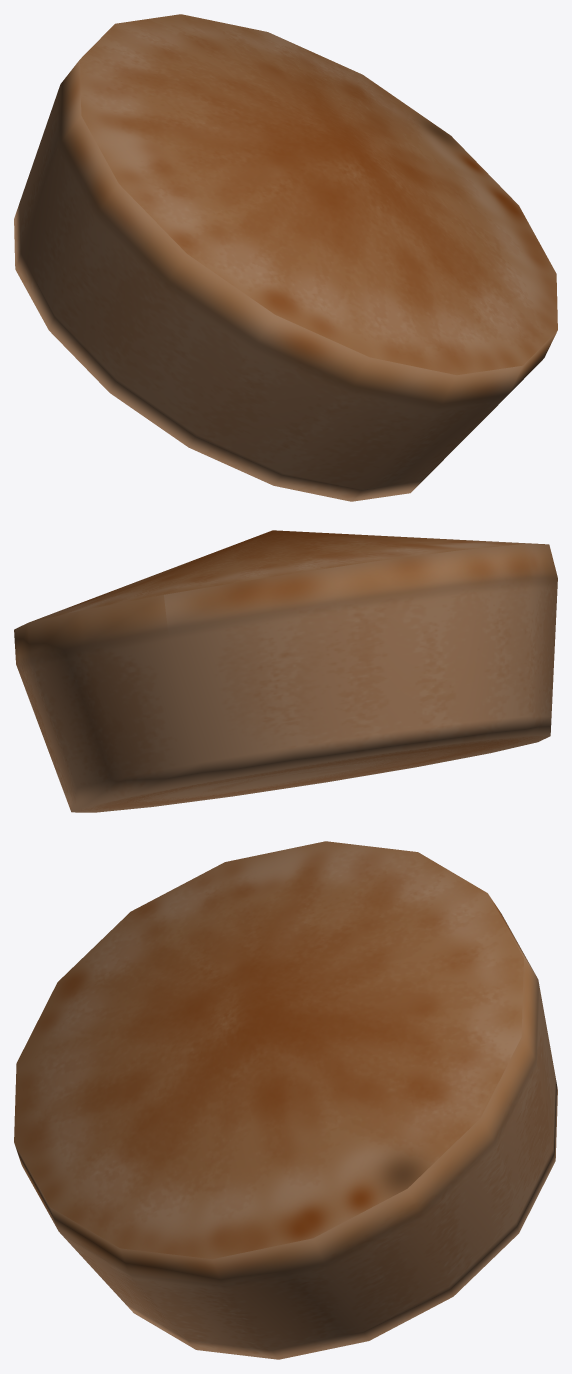
Rendered from PU_MeatPie_01.fbx.
3 views of the same model, one above another, from view 1: azimuth 30°, elevation 25°; view 2: azimuth 150°, elevation 25°; view 3: azimuth 270°, elevation 25° (orthographic).
Visible parts, largest first — view 1: PU_MeatPie_01; view 2: PU_MeatPie_01; view 3: PU_MeatPie_01.
Boxes of the visible parts, x1=… form: PU_MeatPie_01: x1=14, y1=14, x2=557, y2=501; PU_MeatPie_01: x1=14, y1=530, x2=557, y2=812; PU_MeatPie_01: x1=14, y1=841, x2=557, y2=1359.
Bounding box in the file's own units: 13.67 × 10.33 × 13.5.
1 material, 1 textured.
